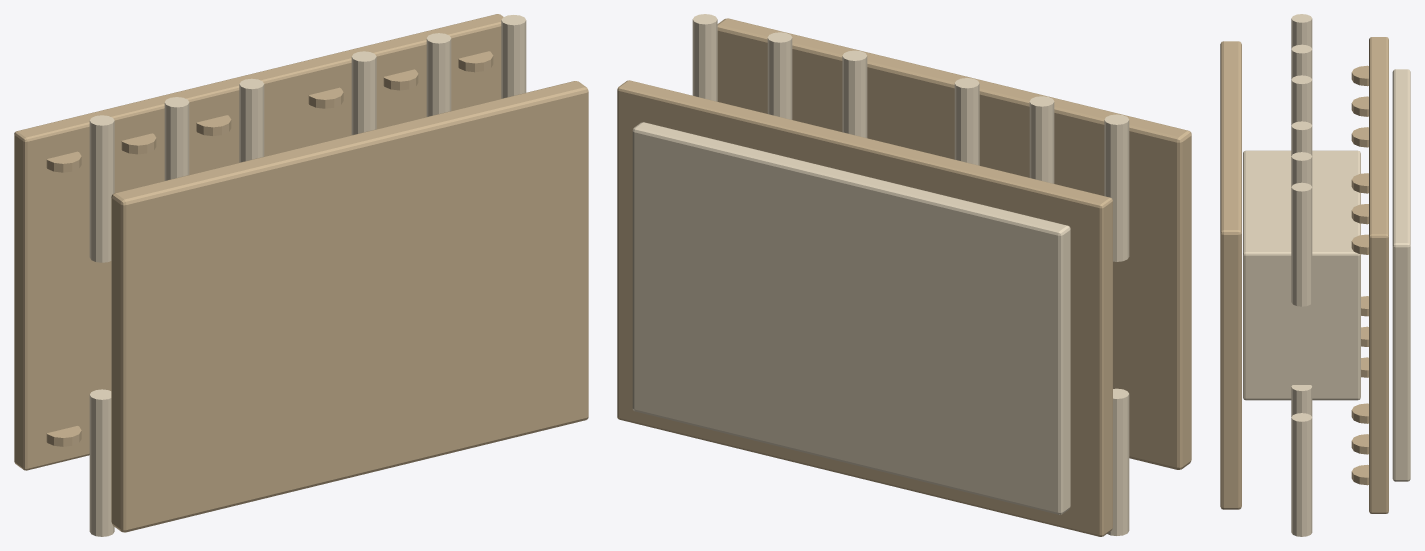
File: temple_court.glb
The picture shows the model from 3 angles, left to right: view 1: azimuth 30°, elevation 25°; view 2: azimuth 150°, elevation 25°; view 3: azimuth 270°, elevation 25°; orthographic projection. The views are drawn at different scales.
Parts seen in each view (by area): view 1: podium, entablature, ionic_column.001, ionic_column, ionic_column.007, ionic_column.009, ionic_column.003, ionic_column.005, ionic_column.011; view 2: roof, podium, entablature, ionic_column.001, ionic_column, ionic_column.003, ionic_column.007, ionic_column.009, ionic_column.005, ionic_column.011; view 3: cella, podium, entablature, roof, ionic_column.011, ionic_column.010, ionic_column.005, ionic_column.003, ionic_column.001, ionic_column.007, ionic_column.009, ionic_column.008 (+9 smaller).
Boxes of the visible parts, x1,y1,x2,y2 form: podium: [111, 81, 588, 532]; entablature: [14, 14, 503, 470]; ionic_column.001: [89, 115, 114, 262]; ionic_column: [89, 389, 114, 536]; ionic_column.007: [351, 51, 376, 134]; ionic_column.009: [426, 33, 451, 116]; ionic_column.003: [164, 97, 189, 180]; ionic_column.005: [239, 78, 264, 162]; ionic_column.011: [501, 15, 526, 98]; roof: [632, 122, 1070, 514]; podium: [717, 18, 1191, 469]; entablature: [617, 80, 1112, 536]; ionic_column.001: [1104, 114, 1129, 261]; ionic_column: [1107, 388, 1129, 535]; ionic_column.003: [1029, 96, 1054, 183]; ionic_column.007: [842, 50, 867, 137]; ionic_column.009: [767, 32, 792, 119]; ionic_column.005: [954, 78, 979, 165]; ionic_column.011: [692, 14, 717, 101]; cella: [1243, 150, 1360, 400]; podium: [1220, 41, 1241, 509]; entablature: [1369, 37, 1388, 513]; roof: [1392, 69, 1410, 481]; ionic_column.011: [1291, 182, 1312, 306]; ionic_column.010: [1291, 413, 1312, 536]; ionic_column.005: [1291, 75, 1312, 125]; ionic_column.003: [1291, 44, 1312, 79]; ionic_column.001: [1291, 14, 1312, 48]; ionic_column.007: [1291, 121, 1312, 155]; ionic_column.009: [1291, 152, 1312, 186]; ionic_column.008: [1291, 385, 1312, 416].
Bounding box in the file's own units: 52 × 42 × 21.
